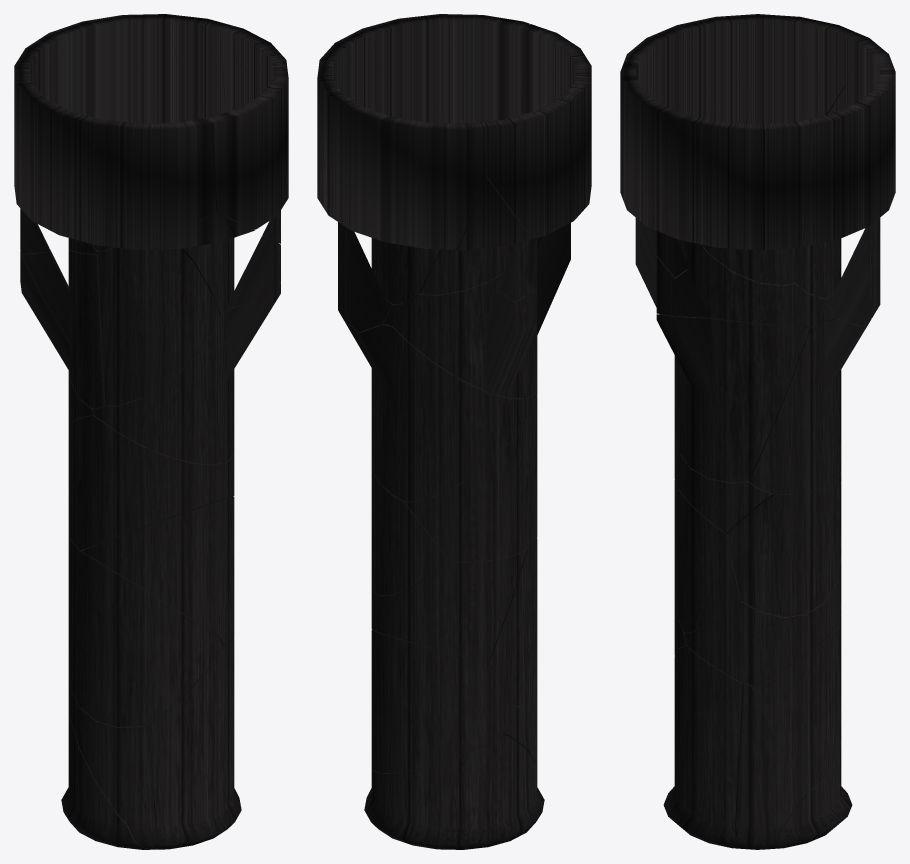
Rendered from tower_broken.FBX.
3 renders of one model, left to right at view 1: azimuth 30°, elevation 25°; view 2: azimuth 150°, elevation 25°; view 3: azimuth 270°, elevation 25°, orthographic.
Visible parts, largest first — view 1: Cylinder001; view 2: Cylinder001; view 3: Cylinder001.
Part boxes in pixels (<box>): Cylinder001: <box>14,14,288,849</box>; Cylinder001: <box>317,14,591,849</box>; Cylinder001: <box>620,14,895,849</box>.
Bounding box in the file's own units: 162 × 481 × 162.
